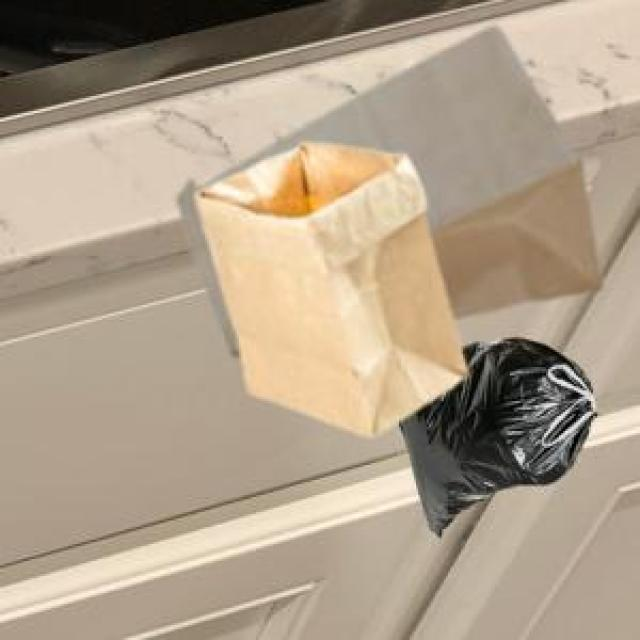miscellaneous trash: (395, 335, 593, 533)
paper: (175, 24, 595, 352), (192, 139, 463, 431)
